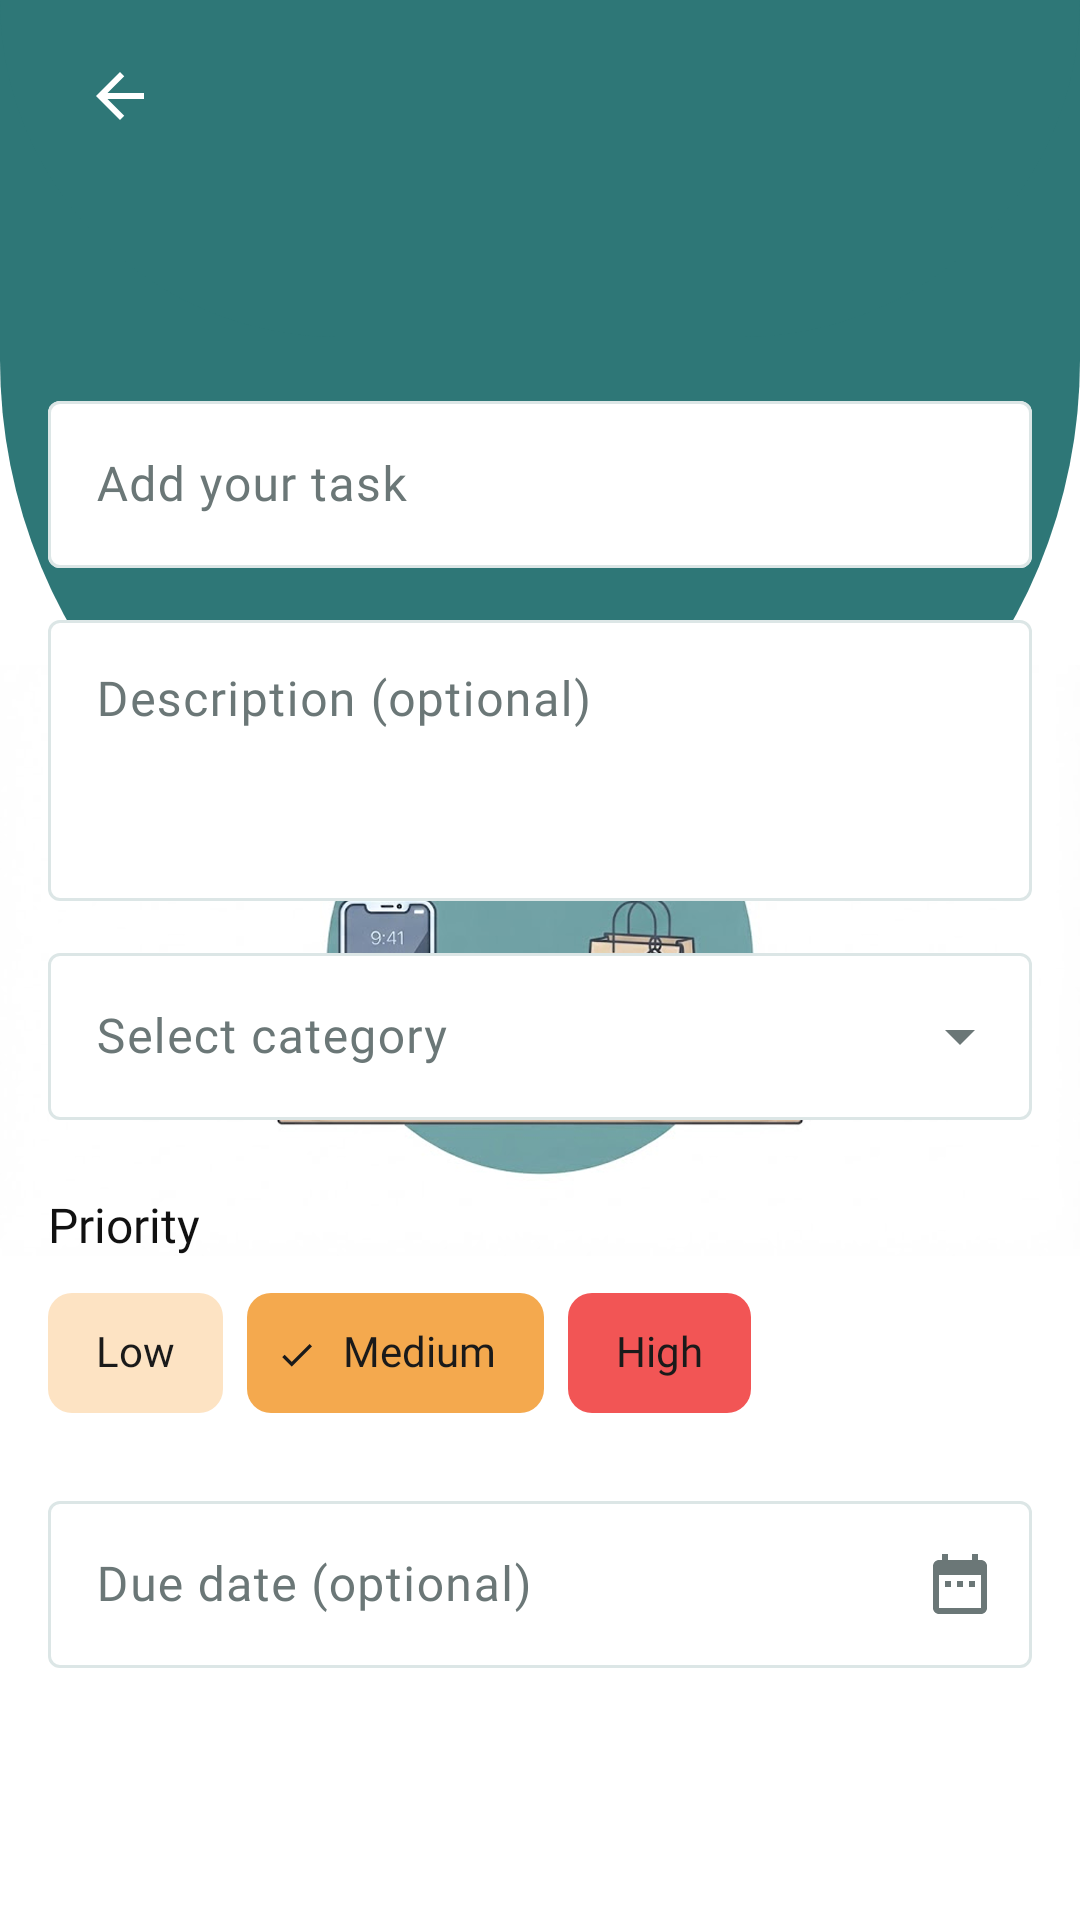

Where icons sit on this 1080*1920 app screen, as (x1=x1, y1=y1, x2=x2, y2=y2):
Back: (x1=96, y1=72, x2=144, y2=120)
